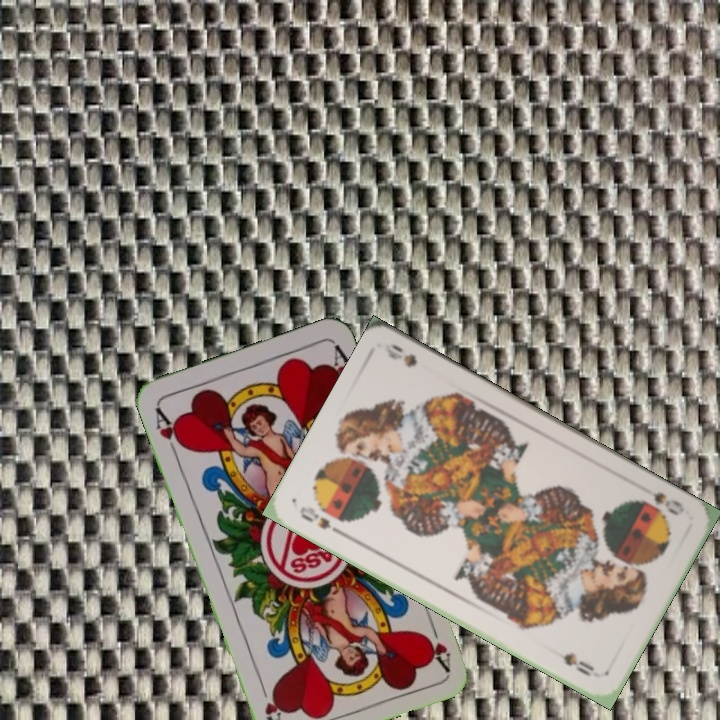HA: (151, 403, 187, 460), (421, 614, 454, 672)
SO: (632, 482, 687, 519), (295, 502, 347, 538)
